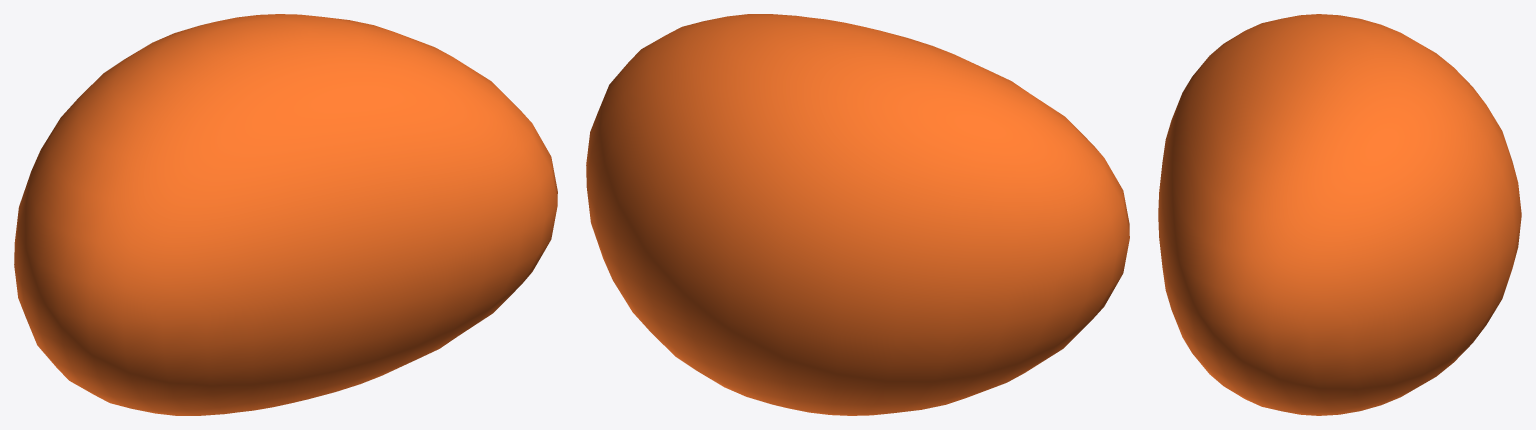
Rendered from Bean.fbx.
3 renders of one model, left to right at view 1: azimuth 30°, elevation 25°; view 2: azimuth 150°, elevation 25°; view 3: azimuth 270°, elevation 25°, orthographic. The views are drawn at different scales.
Parts seen in each view (by area): view 1: Bean; view 2: Bean; view 3: Bean.
Part boxes in pixels (x1=…): Bean: x1=14, y1=14, x2=557, y2=415; Bean: x1=586, y1=14, x2=1129, y2=415; Bean: x1=1158, y1=14, x2=1521, y2=415.
Size of the model in its own units: 2.4 by 1.6 by 1.6.
